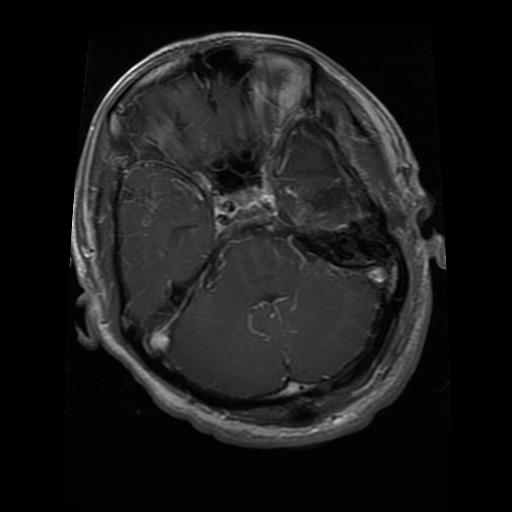Gliomia_tumour: (283, 172, 365, 232)
